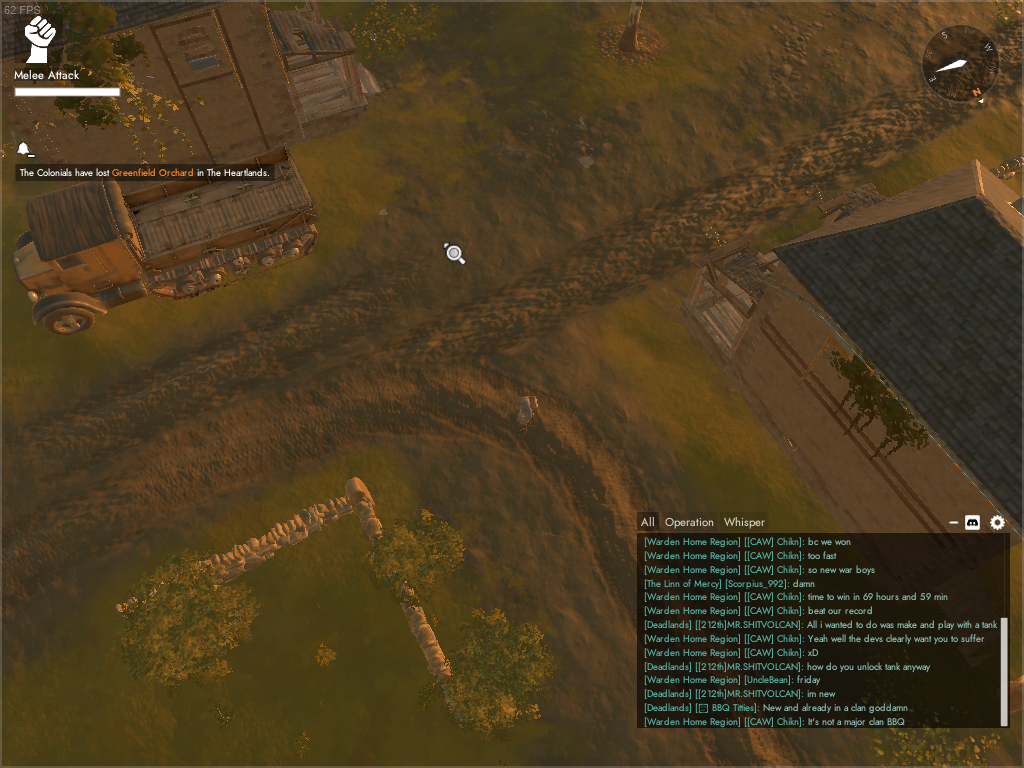flatbed: (11, 140, 323, 337)
player: (512, 394, 540, 439)
